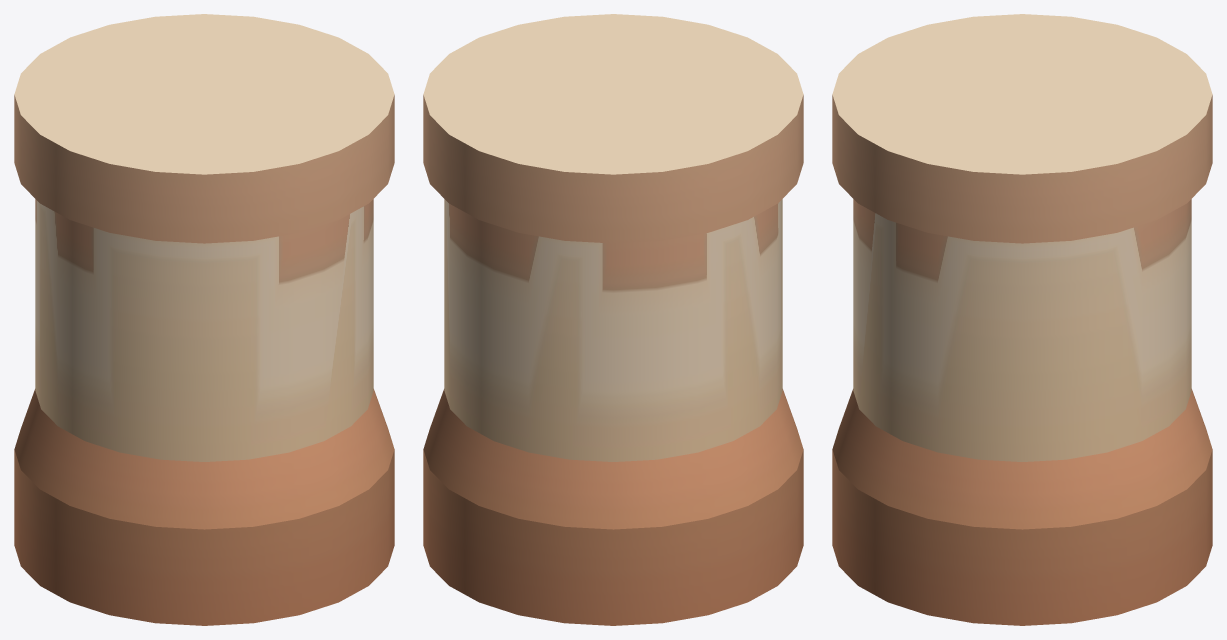
The model's file is kenney-castle-tower-base.glb.
3 views of the same model, side by side, from view 1: azimuth 30°, elevation 25°; view 2: azimuth 150°, elevation 25°; view 3: azimuth 270°, elevation 25° (orthographic).
Visible parts, largest first — view 1: tower-base; view 2: tower-base; view 3: tower-base.
Part boxes in pixels (x1,y1,x2,y2): tower-base: (14,14,394,625); tower-base: (423,14,803,625); tower-base: (832,14,1212,625).
Size of the model in its own units: 1 by 1.31 by 1.
Materials: 1 (1 with a texture image).
